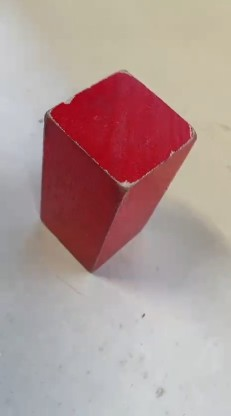red: (44, 63, 169, 275)
